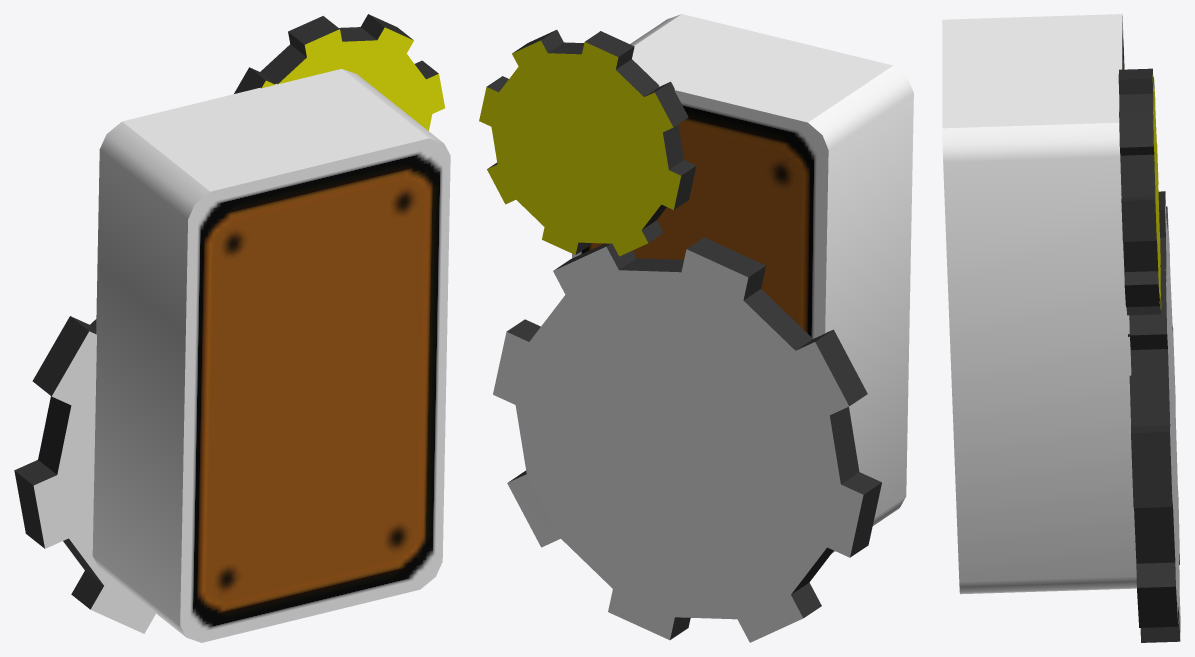
Rendered from rpgsp.ico.obj.
The picture shows the model from 3 angles, left to right: view 1: azimuth 30°, elevation 25°; view 2: azimuth 150°, elevation 25°; view 3: azimuth 270°, elevation 25°; orthographic projection. The views are drawn at different scales.
Bounding box in the file's own units: 2.97 × 4.1 × 1.48.
1 material, 1 textured.
